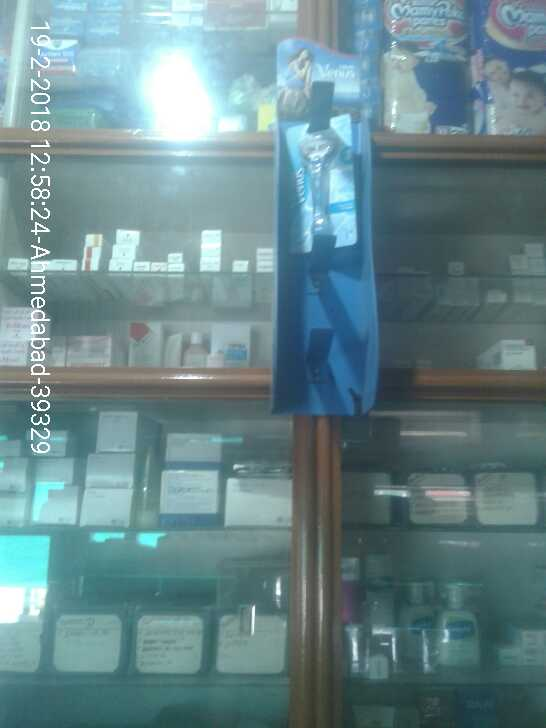venus: (278, 114, 365, 262)
